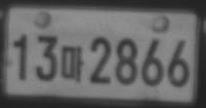1: (11, 33, 33, 81)
2: (90, 37, 111, 83)
3: (35, 35, 57, 80)
6: (141, 38, 164, 86), (167, 39, 189, 87)
8: (115, 37, 138, 85)
마: (61, 45, 85, 83)
